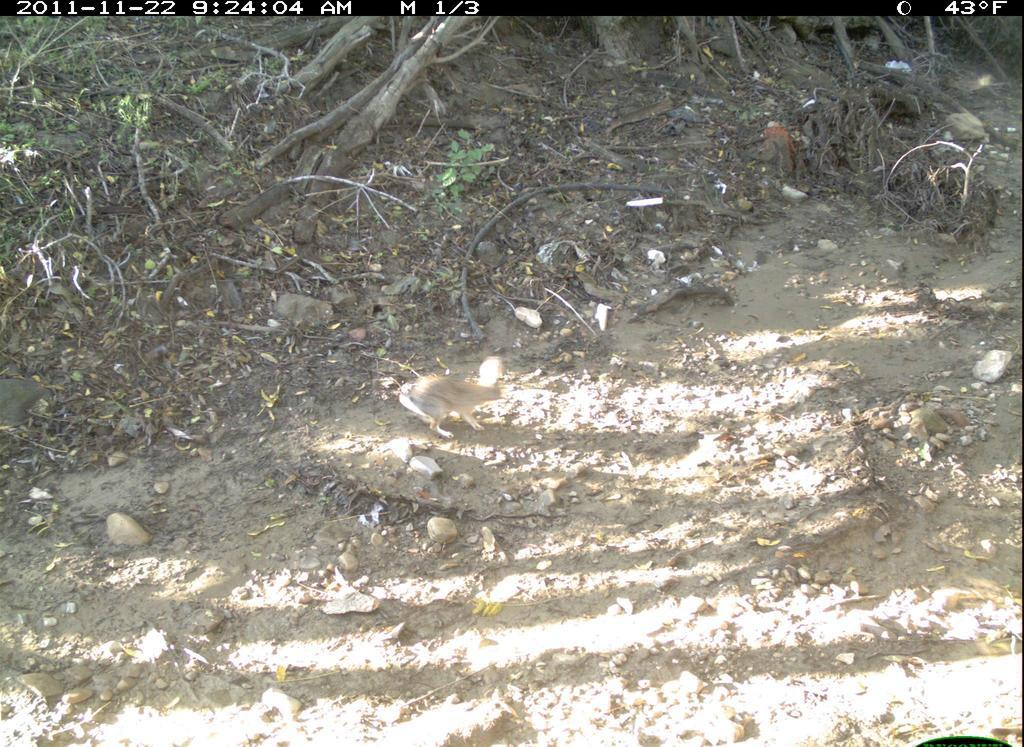rabbit: (381, 350, 545, 456)
